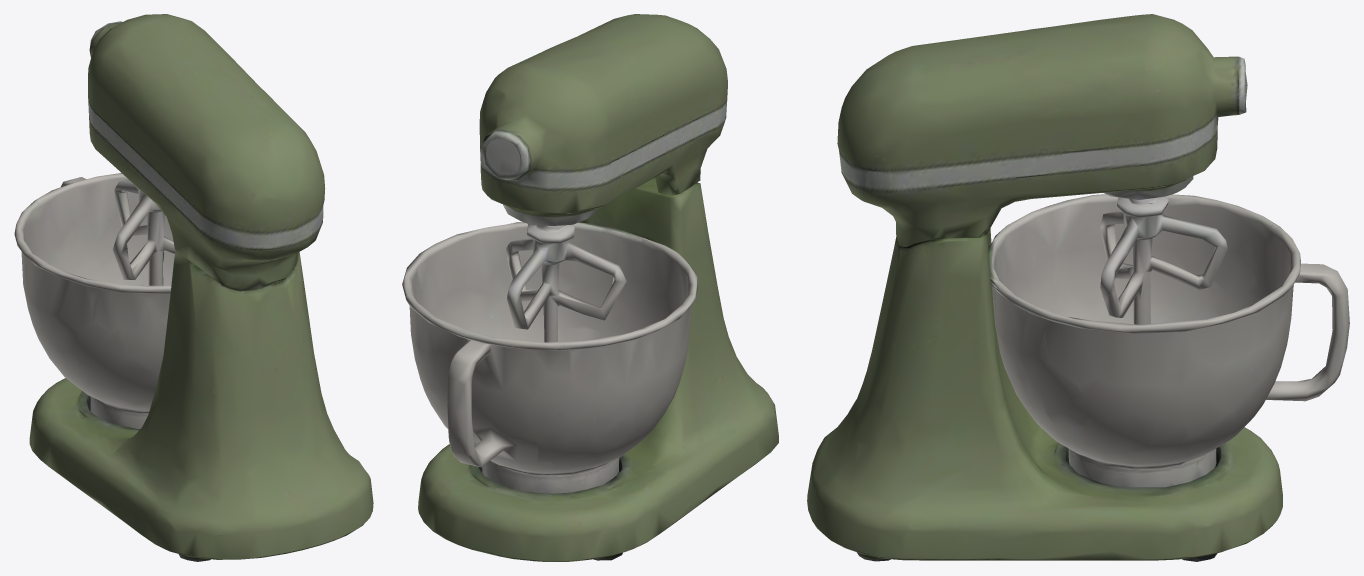
Rendered from SM_Kitchen_StandMixer.glb.
3 views of the same model, side by side, from view 1: azimuth 30°, elevation 25°; view 2: azimuth 150°, elevation 25°; view 3: azimuth 270°, elevation 25° (orthographic). The views are drawn at different scales.
Visible parts, largest first — view 1: tripo_node_3ca6b782-e7c5-4223-a70b-51e7610066f4; view 2: tripo_node_3ca6b782-e7c5-4223-a70b-51e7610066f4; view 3: tripo_node_3ca6b782-e7c5-4223-a70b-51e7610066f4.
Boxes of the visible parts, box(x1,y1,x2,y2) form: tripo_node_3ca6b782-e7c5-4223-a70b-51e7610066f4: box(14, 14, 373, 561); tripo_node_3ca6b782-e7c5-4223-a70b-51e7610066f4: box(402, 14, 778, 561); tripo_node_3ca6b782-e7c5-4223-a70b-51e7610066f4: box(807, 14, 1349, 561).
Bounding box in the file's own units: 0.5899 × 0.9954 × 1.
Materials: 1 (1 with a texture image).
